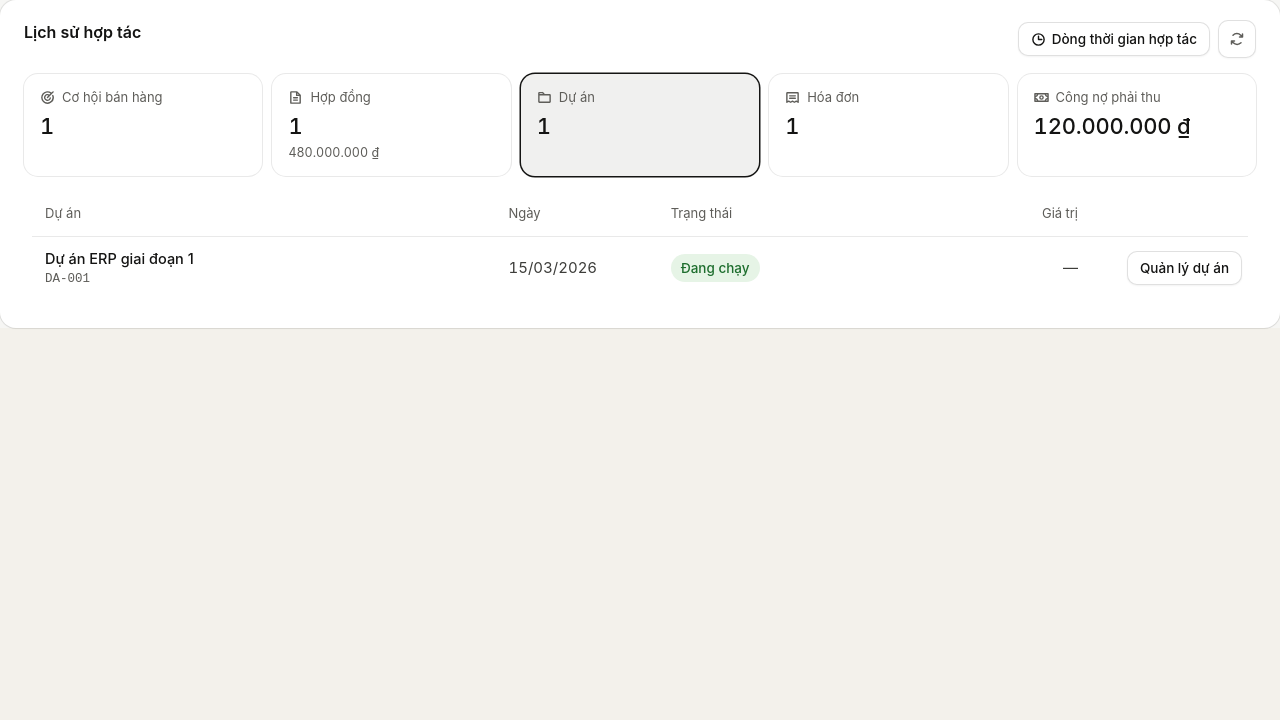
Scenario: CustomerOverviewPanel (NCL-02-CN-004) › NCL-04-CN-005: Cảnh báo hạn mức từ hồ sơ khách hàng (Quản lý dự án VT-02) › nút "Cảnh báo hạn mức" hiển thị cho VT-02, bấm nút mở modal ngay (không đòi quyền của GET /contracts/{id})
The width and height of the screenshot is (1280, 720).
Expected: the element with test id "customer-summary-panel" is shown, left=0, top=0, right=1279, bottom=328
Click the tab "Hợp đồng 1 480.000.000 ₫" at (392, 125), box left=272, top=74, right=511, bottom=176
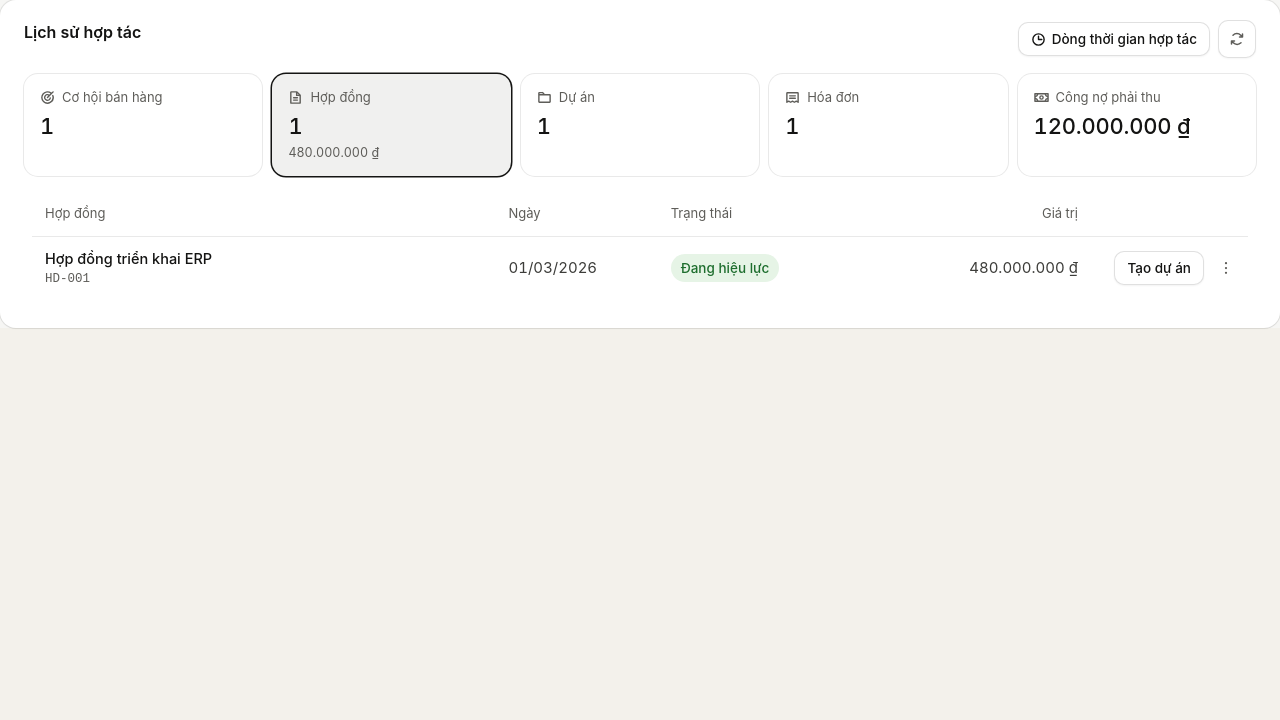
Click the button named "Thao tác với hợp đồng" at (1226, 268), box left=1210, top=252, right=1242, bottom=284
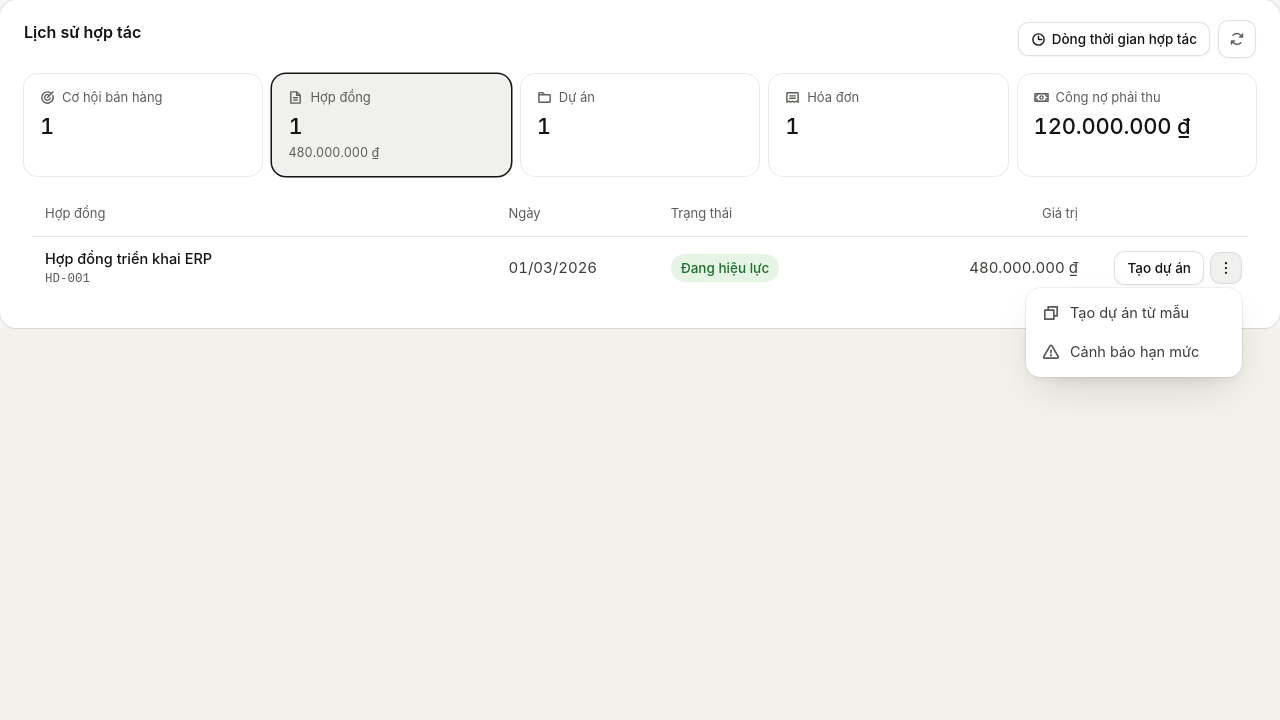
Now the menu item "Cảnh báo hạn mức" is shown
Click the menu item "Cảnh báo hạn mức" at (1134, 352), box left=1032, top=333, right=1236, bottom=371
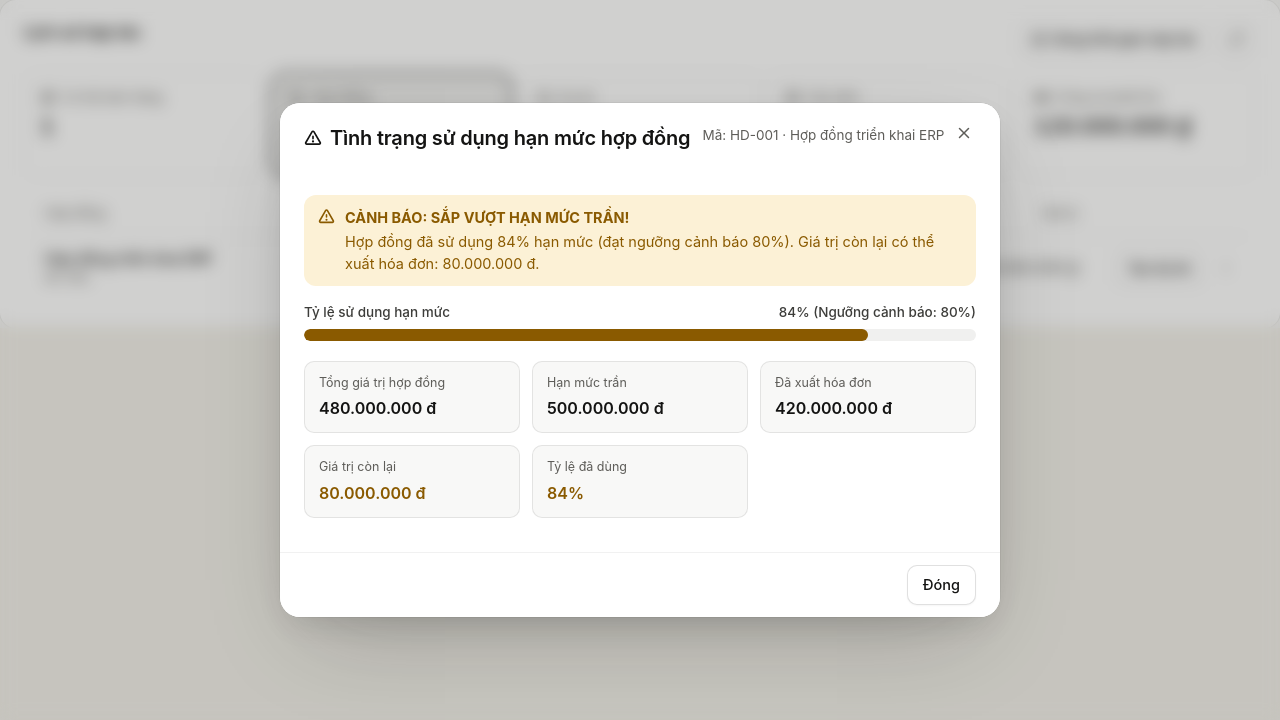
Now the heading "Tình trạng sử dụng hạn mức hợp đồng" is shown, box left=304, top=123, right=690, bottom=153
Now the message with test id "limit-alert-near" is shown, box left=304, top=195, right=976, bottom=286
